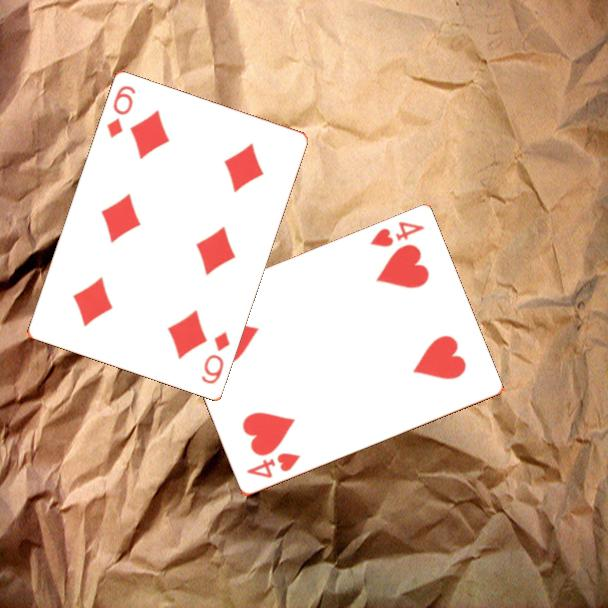d06: (197, 327, 233, 387), (103, 81, 138, 141)
h04: (366, 218, 427, 250), (243, 450, 303, 482)
